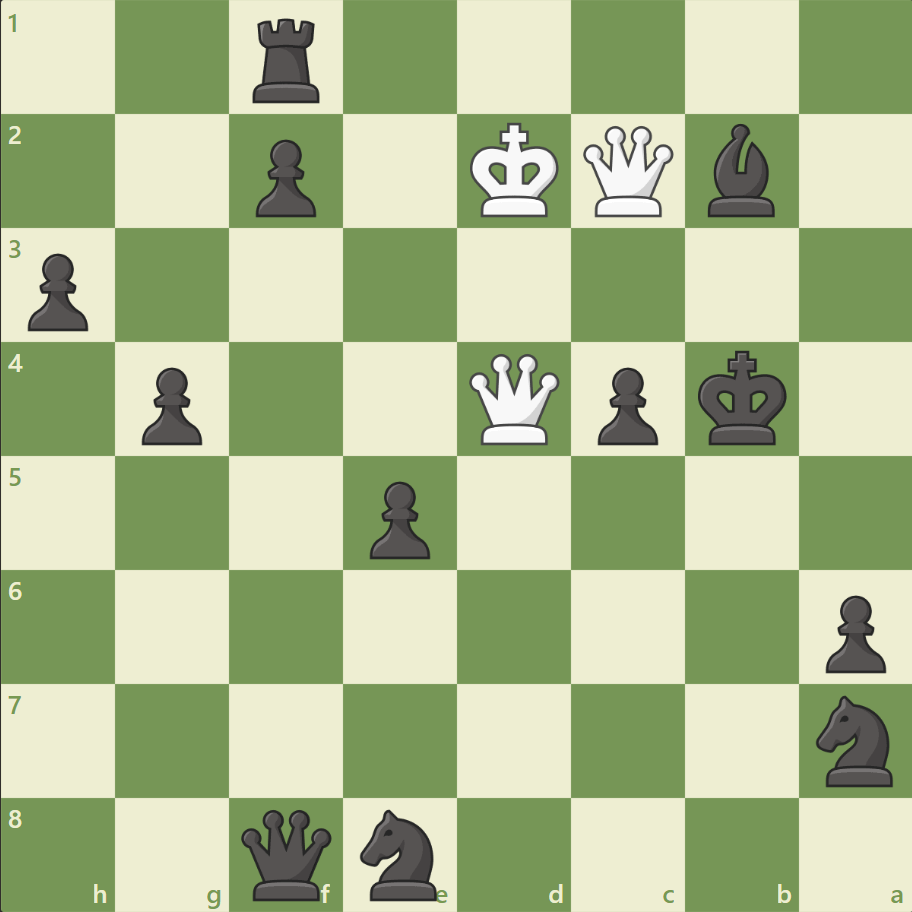K: (465, 117, 565, 225)
Q: (464, 349, 563, 449), (578, 122, 677, 222)
b: (698, 120, 782, 222)
k: (692, 344, 792, 452)
n: (351, 802, 449, 904), (806, 688, 903, 791)
p: (133, 359, 208, 450), (20, 246, 95, 337), (247, 132, 322, 223), (815, 586, 889, 677), (361, 473, 435, 564), (588, 359, 662, 450)
q: (237, 804, 336, 903)
r: (246, 12, 329, 109)
